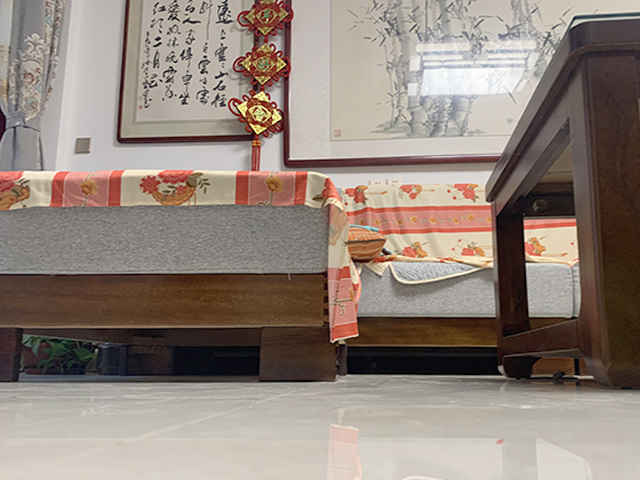sofa: (1, 168, 498, 383)
table: (485, 10, 640, 392)
